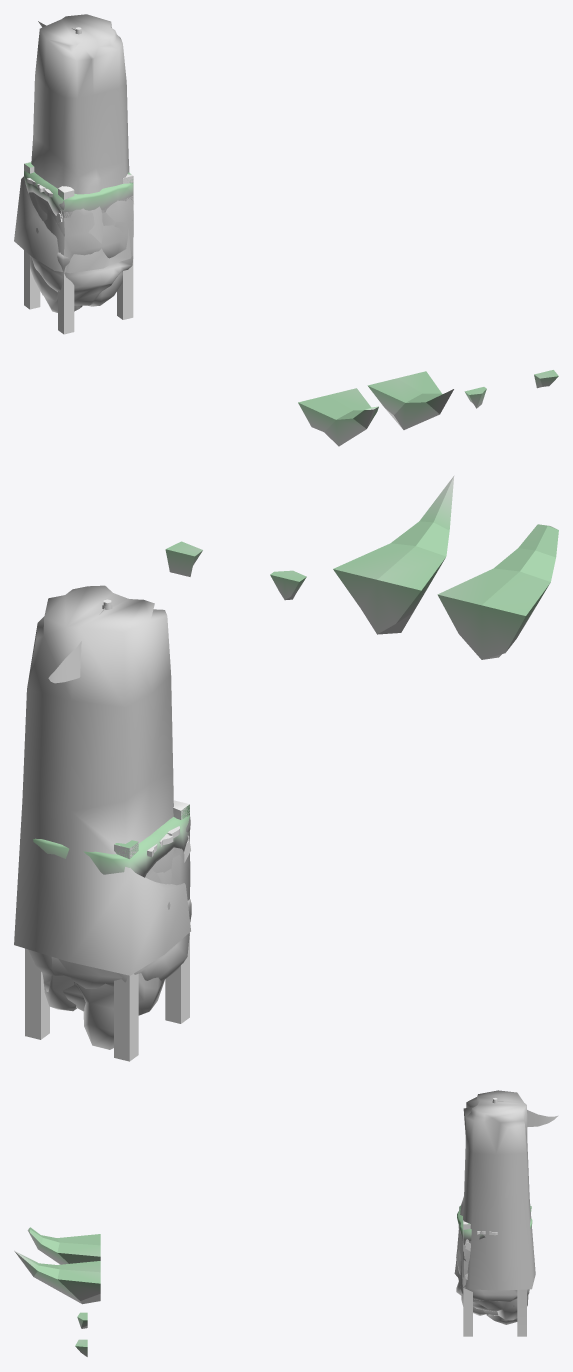
The picture shows the model from 3 angles, top to bottom: view 1: azimuth 30°, elevation 25°; view 2: azimuth 150°, elevation 25°; view 3: azimuth 270°, elevation 25°; orthographic projection. The views are drawn at different scales.
Parts seen in each view (by area): view 1: map0_st_3, map0_block_3, map0_ap_1, map0_block_4, map0_bridge_wooden_1, map0_b_2, map0_bridge_rock_2, map0_b_3; view 2: map0_st_3, map0_block_4, map0_block_3, map0_bridge_wooden_1, map0_b_3, map0_b_2, map0_bridge_rock_2, map0_block_1, map0_flag; view 3: map0_st_3, map0_block_3, map0_block_4, map0_b_3, map0_b_2, map0_bridge_wooden_2, map0_bridge_wooden_1.
Boxes of the visible parts, x1=… form: map0_st_3: x1=14, y1=14, x2=131, y2=273; map0_block_3: x1=367, y1=371, x2=453, y2=429; map0_ap_1: x1=64, y1=199, x2=133, y2=272; map0_block_4: x1=298, y1=388, x2=378, y2=446; map0_bridge_wooden_1: x1=24, y1=161, x2=133, y2=334; map0_b_2: x1=30, y1=255, x2=133, y2=305; map0_bridge_rock_2: x1=24, y1=171, x2=133, y2=217; map0_b_3: x1=30, y1=256, x2=122, y2=312; map0_st_3: x1=14, y1=585, x2=190, y2=975; map0_block_4: x1=437, y1=524, x2=558, y2=659; map0_block_3: x1=333, y1=475, x2=454, y2=634; map0_bridge_wooden_1: x1=25, y1=805, x2=190, y2=1061; map0_b_3: x1=43, y1=973, x2=164, y2=1049; map0_b_2: x1=28, y1=933, x2=189, y2=1011; map0_bridge_rock_2: x1=33, y1=815, x2=189, y2=877; map0_block_1: x1=165, y1=541, x2=202, y2=576; map0_flag: x1=48, y1=608, x2=104, y2=683; map0_st_3: x1=454, y1=1090, x2=535, y2=1290; map0_block_3: x1=14, y1=1251, x2=100, y2=1304; map0_block_4: x1=27, y1=1227, x2=100, y2=1264; map0_b_3: x1=461, y1=1294, x2=528, y2=1324; map0_b_2: x1=456, y1=1281, x2=529, y2=1315; map0_bridge_wooden_2: x1=463, y1=1220, x2=526, y2=1336; map0_bridge_wooden_1: x1=463, y1=1231, x2=479, y2=1336.
Bounding box in the file's own units: 3.75 × 3.94 × 8.56.
